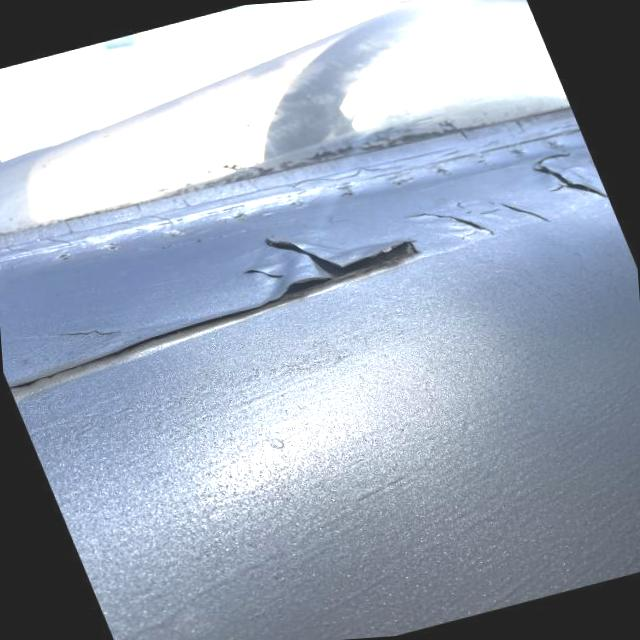crack: (414, 200, 564, 241), (41, 321, 128, 342), (246, 264, 292, 283)
